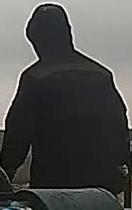vest: (1, 54, 130, 195)
